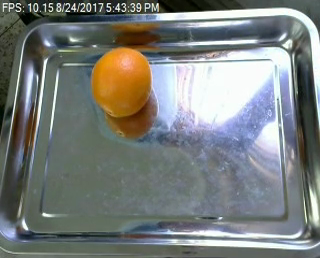Orange: (91, 46, 152, 118)
